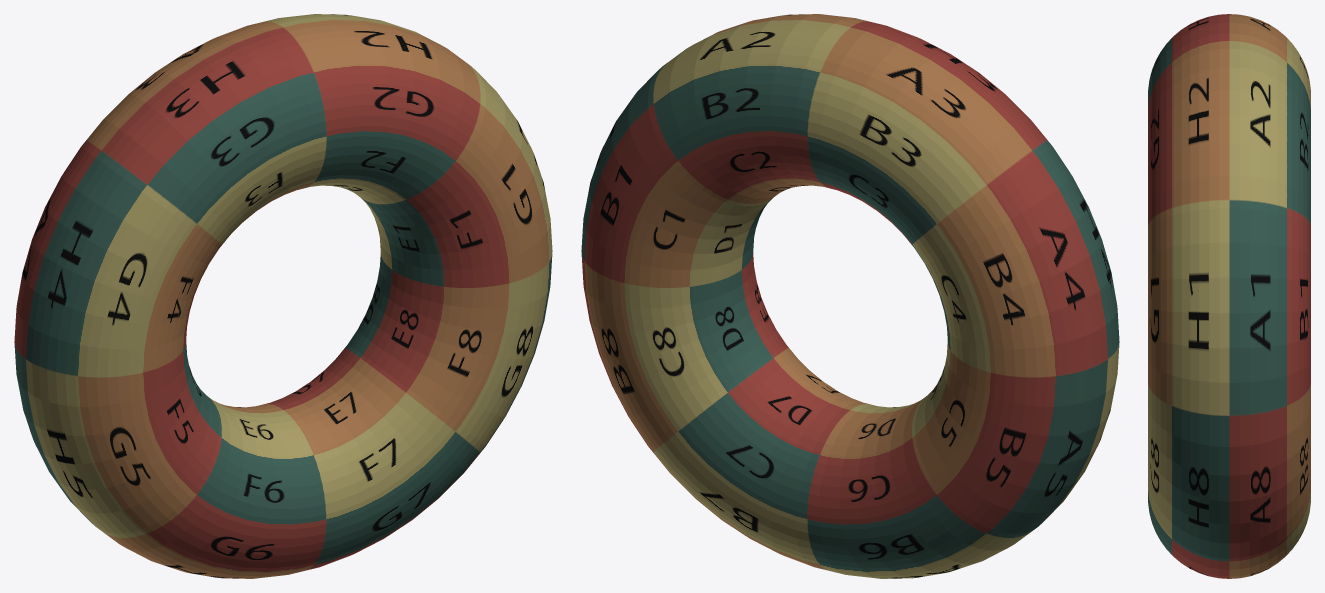
The model's file is texture_torus_R17_r25.glb.
3 views of the same model, side by side, from view 1: azimuth 30°, elevation 25°; view 2: azimuth 150°, elevation 25°; view 3: azimuth 270°, elevation 25° (orthographic). The views are drawn at different scales.
Visible parts, largest first — view 1: world; view 2: world; view 3: world.
Boxes of the visible parts, x1,y1,x2,y2 form: world: (14,14,552,578); world: (581,14,1119,578); world: (1148,14,1310,578).
Size of the model in its own units: 30 by 29.94 by 8.65.
1 material, 1 textured.
